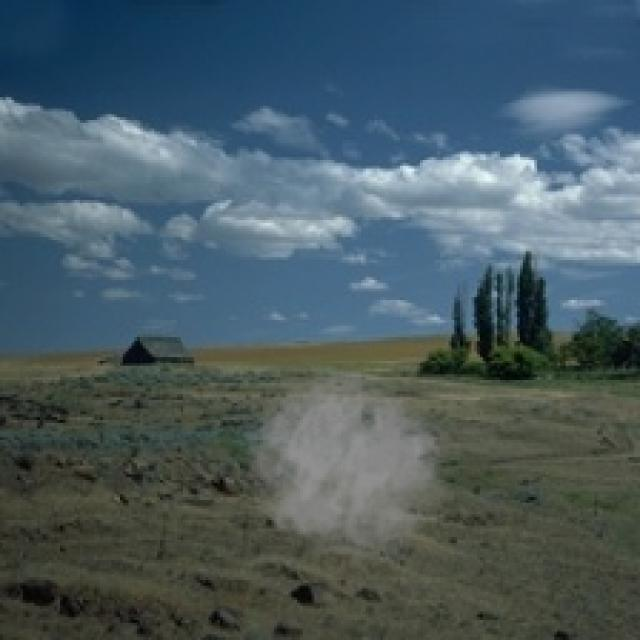Smoke: (243, 368, 460, 574)
